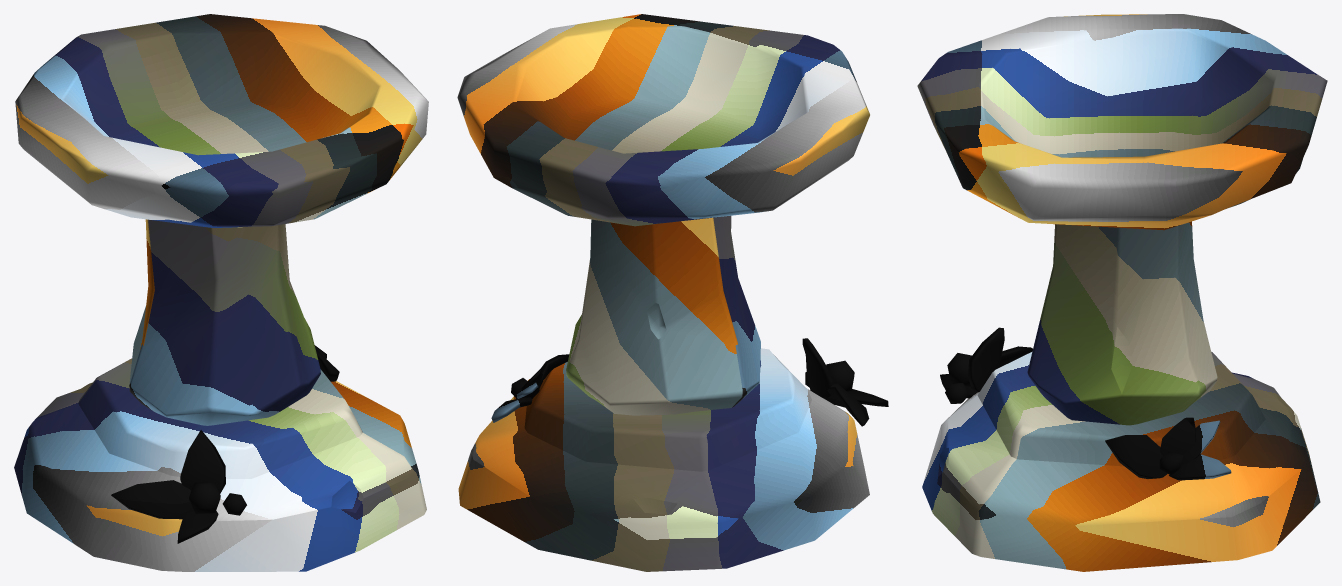
The model's file is Prop_ButterflyFountain.glb.
3 renders of one model, left to right at view 1: azimuth 30°, elevation 25°; view 2: azimuth 150°, elevation 25°; view 3: azimuth 270°, elevation 25°, orthographic.
Parts seen in each view (by area): view 1: Prop_ButterflyFountain; view 2: Prop_ButterflyFountain; view 3: Prop_ButterflyFountain.
Part boxes in pixels (left/top/right/bottom): Prop_ButterflyFountain: left=14, top=14, right=428, bottom=571; Prop_ButterflyFountain: left=457, top=14, right=888, bottom=571; Prop_ButterflyFountain: left=917, top=14, right=1327, bottom=571.
Size of the model in its own units: 0.6193 by 0.6908 by 0.6358.
Materials: 1 (1 with a texture image).
